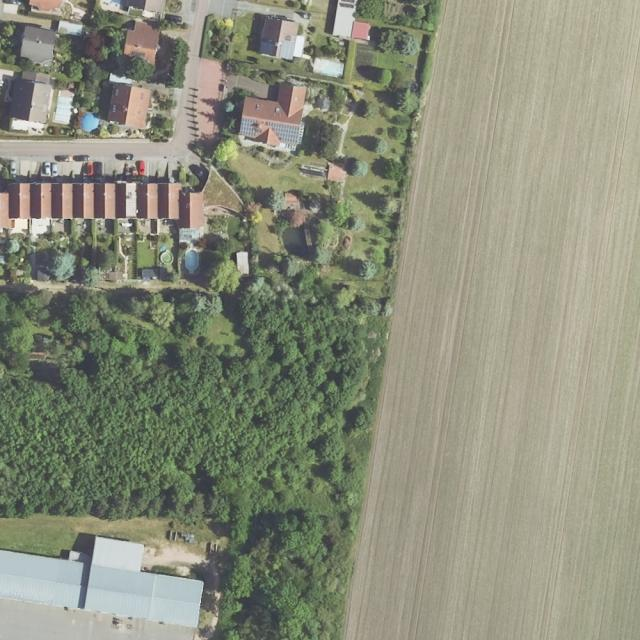PV: (266, 122, 299, 143), (238, 118, 263, 137), (279, 40, 294, 60), (260, 41, 276, 55)
